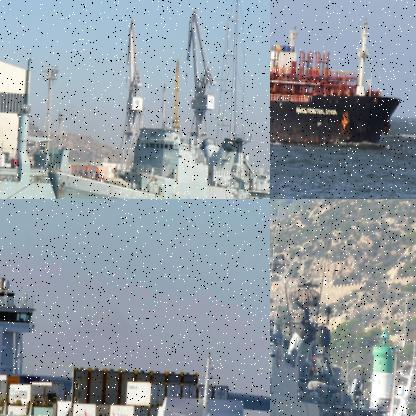Merchant Ship: (0, 236, 259, 415), (270, 0, 413, 151)
Military Ship: (270, 199, 415, 415), (43, 108, 269, 198)
Tugboat: (0, 164, 41, 198)
